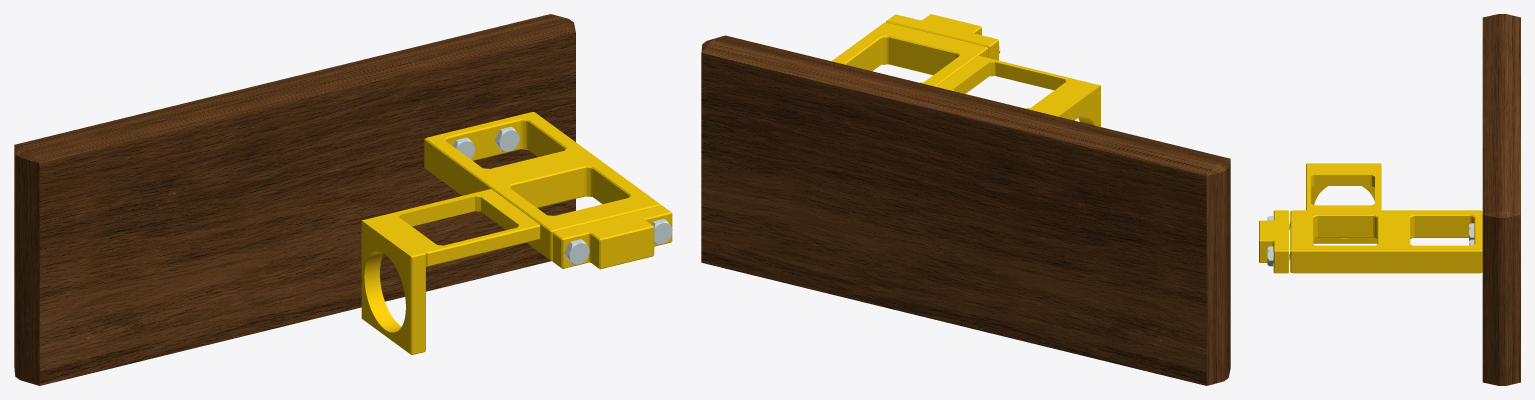
3 renders of one model, left to right at view 1: azimuth 30°, elevation 25°; view 2: azimuth 150°, elevation 25°; view 3: azimuth 270°, elevation 25°, orthographic. The views are drawn at different scales.
Parts seen in each view (by area): view 1: Woodenbase, Mount1, Mount3, Mount2; view 2: Woodenbase, Mount1, Mount3, Mount2; view 3: Woodenbase, Mount1, Mount3, Mount2.
Part boxes in pixels (x1,y1,x2,y2): Woodenbase: [14, 14, 575, 385]; Mount1: [424, 112, 661, 260]; Mount3: [361, 189, 540, 354]; Mount2: [552, 205, 672, 269]; Woodenbase: [701, 35, 1230, 385]; Mount1: [832, 22, 988, 86]; Mount3: [936, 56, 1100, 126]; Mount2: [886, 14, 998, 60]; Woodenbase: [1482, 14, 1520, 385]; Mount1: [1290, 210, 1482, 273]; Mount3: [1306, 163, 1381, 243]; Mount2: [1259, 210, 1288, 273].
Size of the model in its own units: 10 by 4 by 5.43.
3 materials, 1 textured.
